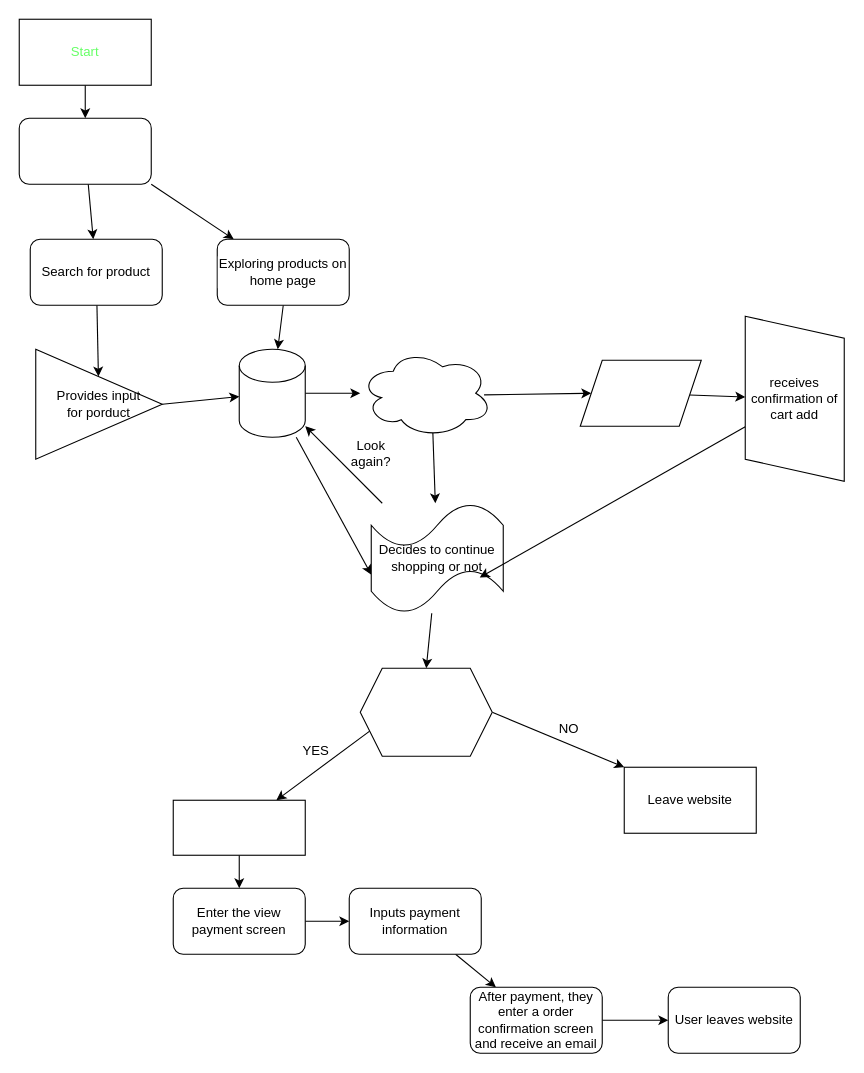
This 864x1073 diagram has some shape labels left out. The centre of each missing label's shape, as x and y in pixels:
"added item to cart" belongs at (640,392).
"checkout?" belongs at (425,711).
"Enter the View Cart screen" belongs at (238,827).
"Enter the website" belongs at (84,150).
"looks at a specific product" belongs at (425,392).
"viewing products" belongs at (271,392).
